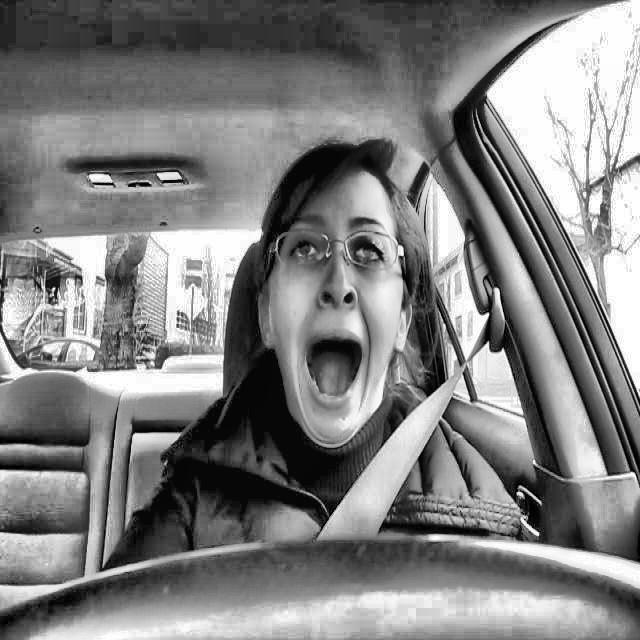open_eyes: (343, 235, 398, 275), (278, 233, 328, 269)
open_mouth: (292, 319, 373, 422)
